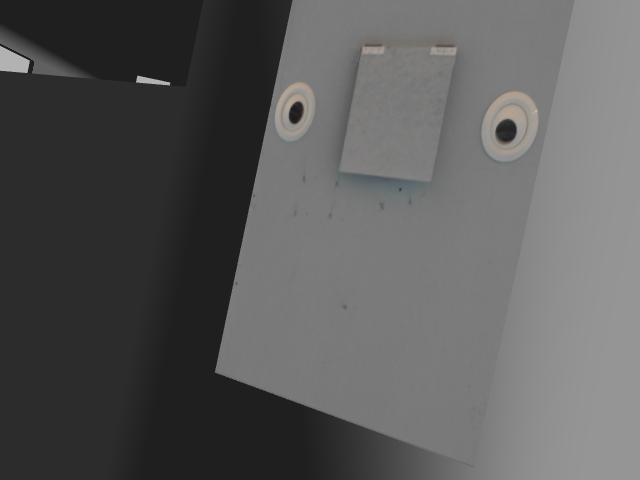facade: (273, 41, 541, 190)
